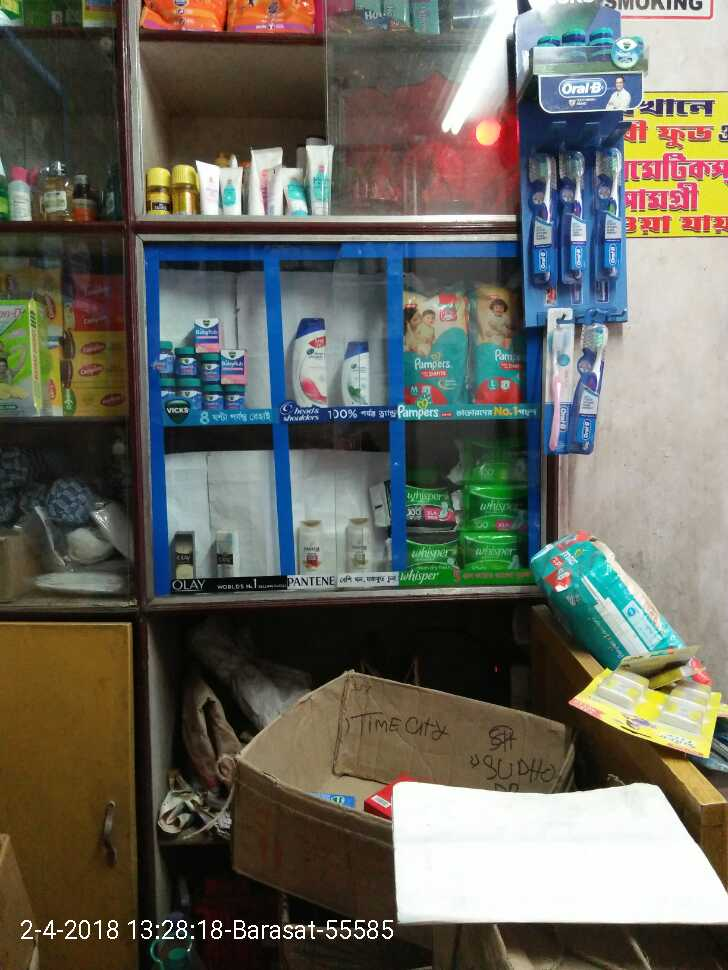oralcare: (524, 70, 621, 302), (547, 310, 607, 442)
vicks: (158, 312, 247, 411), (519, 19, 655, 76)
